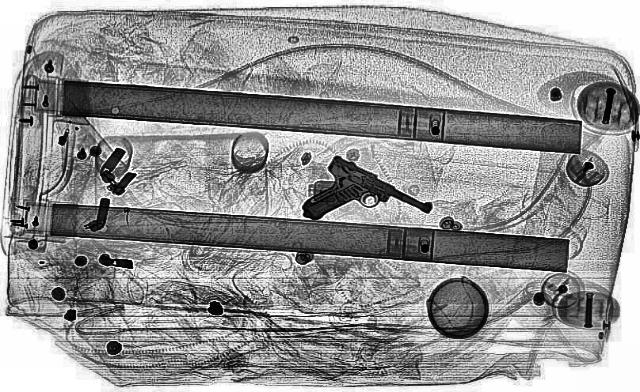Gun: (266, 153, 440, 249)
